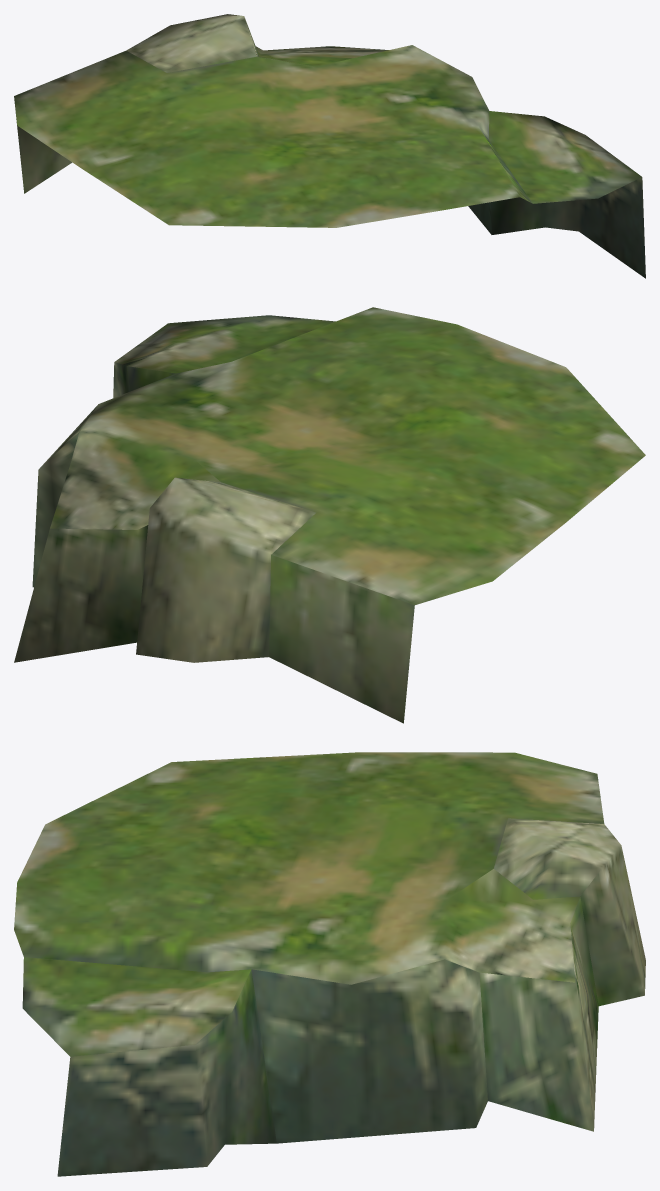
The model's file is S_Rock_Green054_1060_11.fbx.
3 renders of one model, top to bottom at view 1: azimuth 30°, elevation 25°; view 2: azimuth 150°, elevation 25°; view 3: azimuth 270°, elevation 25°, orthographic. The views are drawn at different scales.
Parts seen in each view (by area): view 1: S_Rock_Green054_1060_11; view 2: S_Rock_Green054_1060_11; view 3: S_Rock_Green054_1060_11.
Part boxes in pixels (x1,y1,x2,y2): S_Rock_Green054_1060_11: (14, 14, 645, 278); S_Rock_Green054_1060_11: (14, 307, 645, 723); S_Rock_Green054_1060_11: (14, 752, 645, 1176).
Size of the model in its own units: 1574 by 572 by 1564.
1 material, 1 textured.
